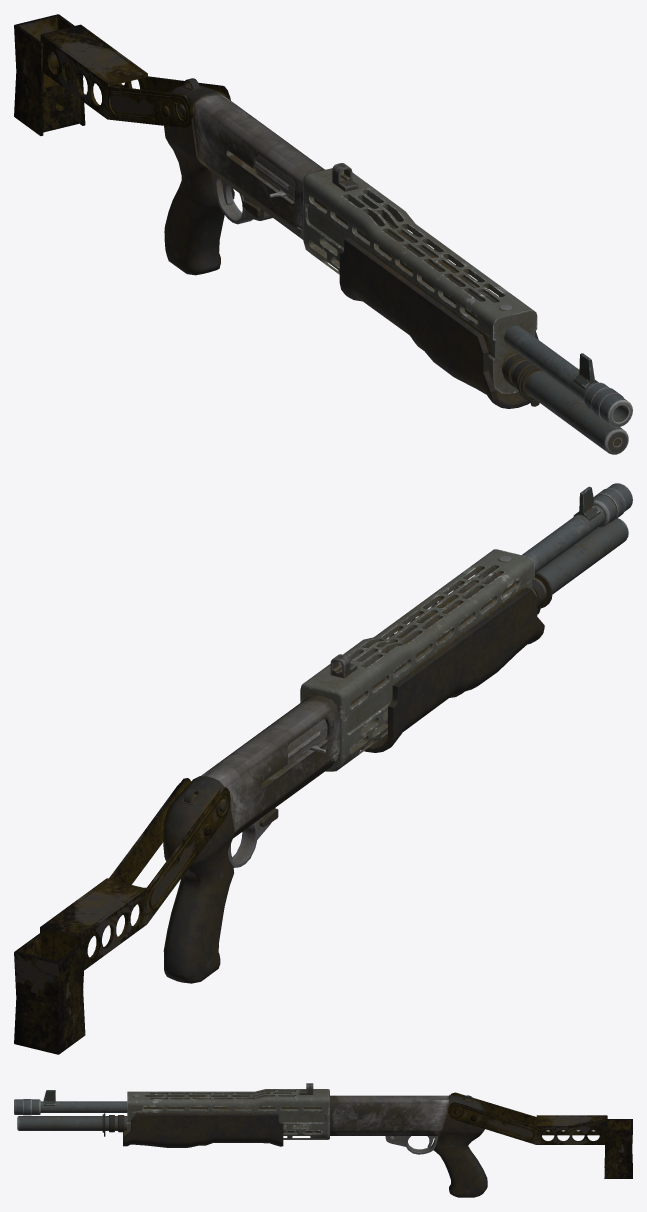
3 views of the same model, one above another, from view 1: azimuth 30°, elevation 25°; view 2: azimuth 150°, elevation 25°; view 3: azimuth 270°, elevation 25° (orthographic). The views are drawn at different scales.
Parts seen in each view (by area): view 1: Body_initialShadingGroup; view 2: Body_initialShadingGroup; view 3: Body_initialShadingGroup.
Boxes of the visible parts, left/top/right/bottom form: Body_initialShadingGroup: left=14, top=14, right=632, bottom=454; Body_initialShadingGroup: left=14, top=483, right=632, bottom=1054; Body_initialShadingGroup: left=14, top=1083, right=632, bottom=1197.
Size of the model in its own units: 0.0584 by 0.2036 by 1.04.
Materials: 1 (1 with a texture image).
